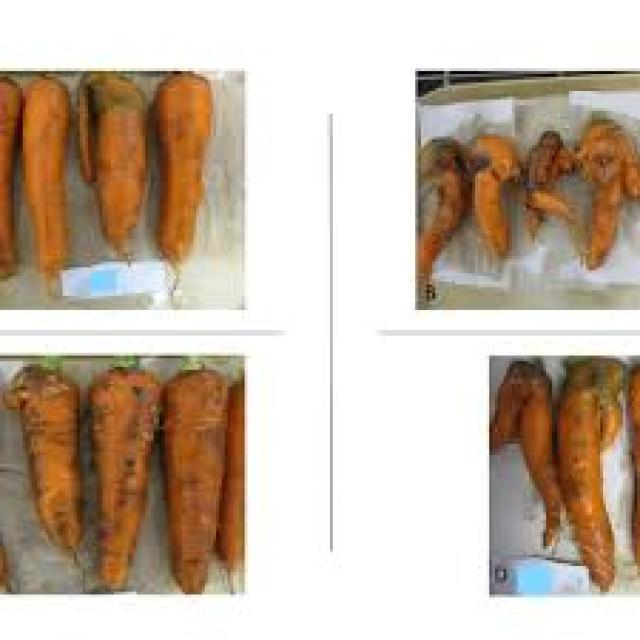Stale_Carrot: (7, 353, 268, 569), (0, 60, 219, 276), (424, 98, 633, 270), (489, 363, 640, 579)
